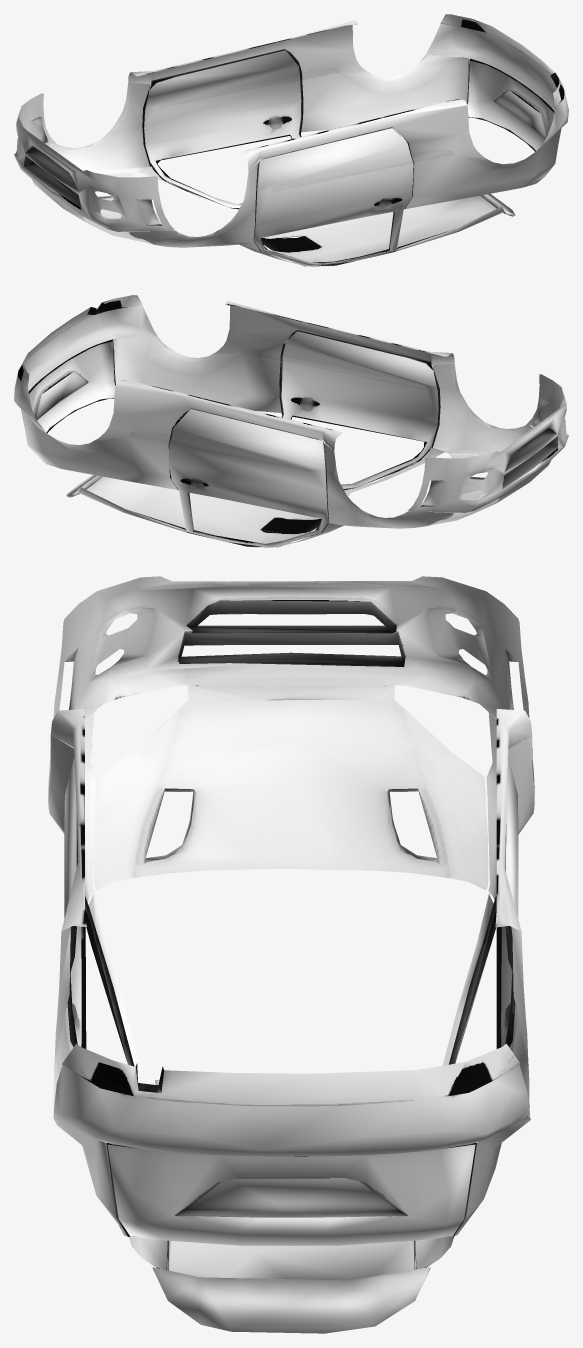
File: FN_body_d1.obj
3 renders of one model, top to bottom at view 1: azimuth 30°, elevation 25°; view 2: azimuth 150°, elevation 25°; view 3: azimuth 270°, elevation 25°, orthographic. The views are drawn at different scales.
Parts seen in each view (by area): view 1: FN_body; view 2: FN_body; view 3: FN_body.
Boxes of the visible parts, left/top/right/bottom form: FN_body: left=14, top=14, right=568, bottom=266; FN_body: left=14, top=295, right=568, bottom=547; FN_body: left=48, top=576, right=534, bottom=1333.
Size of the model in its own units: 4.06 by 1.3 by 1.76.
Materials: 1 (1 with a texture image).
